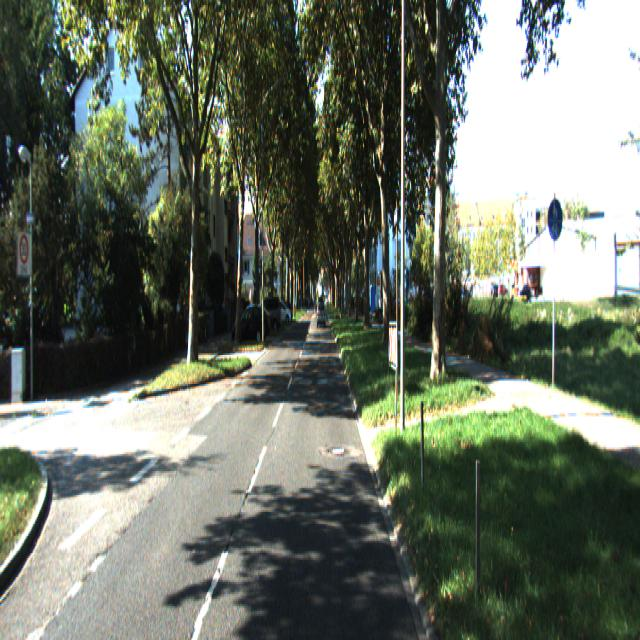Car: (234, 305, 267, 347)
